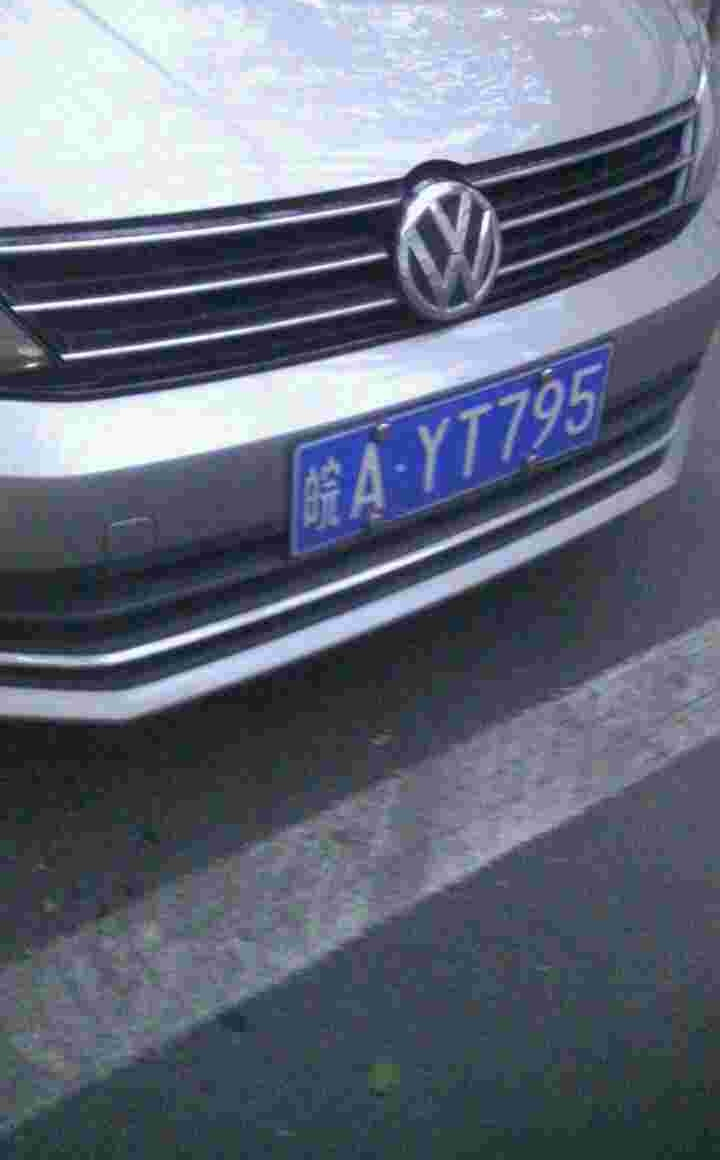license_plate: (278, 351, 614, 558)
